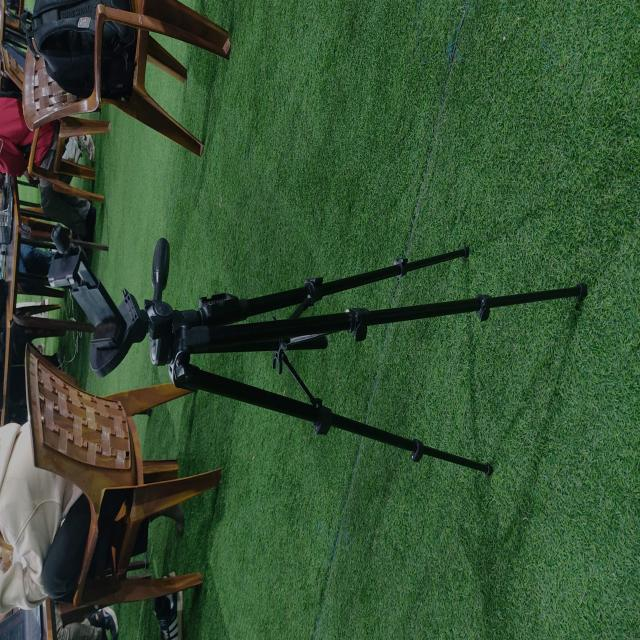Chair: (24, 340, 222, 612)
